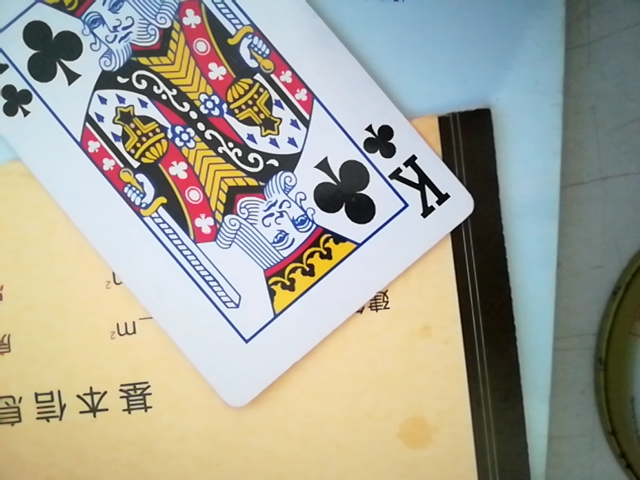mh k: (0, 5, 489, 417)
